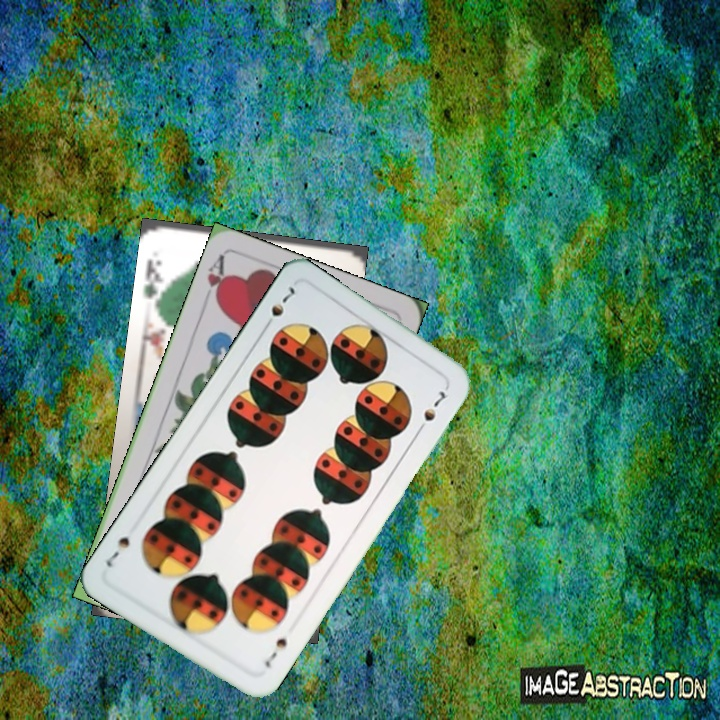GK: (140, 255, 168, 304)
HA: (198, 251, 231, 309)
S7: (259, 282, 298, 333), (260, 633, 290, 670)
